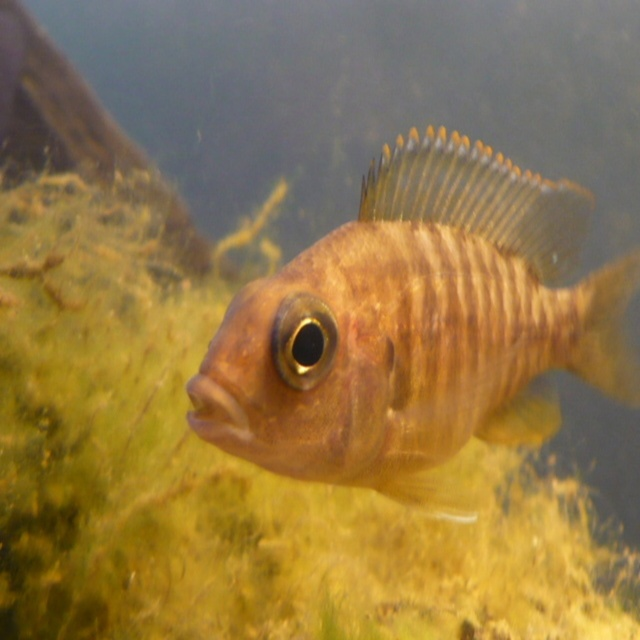Fish: (186, 128, 639, 523)
